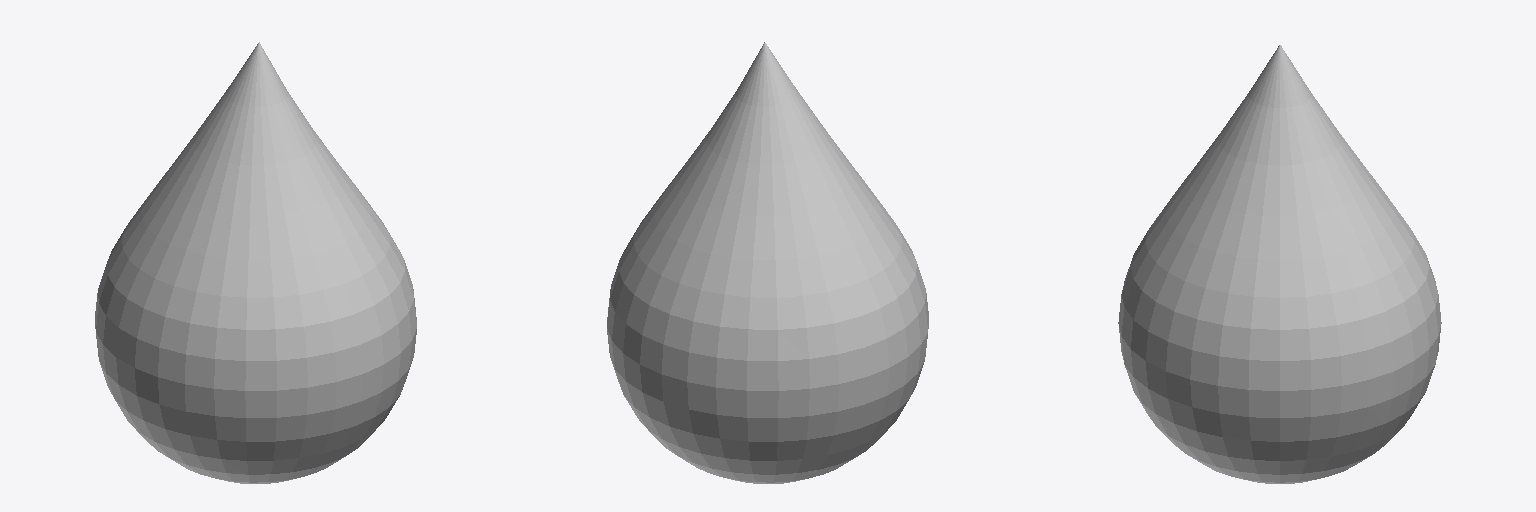
File: water.obj
The picture shows the model from 3 angles: view 1: azimuth 30°, elevation 25°; view 2: azimuth 150°, elevation 25°; view 3: azimuth 270°, elevation 25°; orthographic projection.
Parts seen in each view (by area): view 1: Sphere; view 2: Sphere; view 3: Sphere.
Part boxes in pixels (bbox=[...]): Sphere: bbox=[95, 42, 416, 483]; Sphere: bbox=[607, 42, 928, 483]; Sphere: bbox=[1118, 45, 1441, 483].
Bounding box in the file's own units: 0.0746 × 0.1087 × 0.0746.